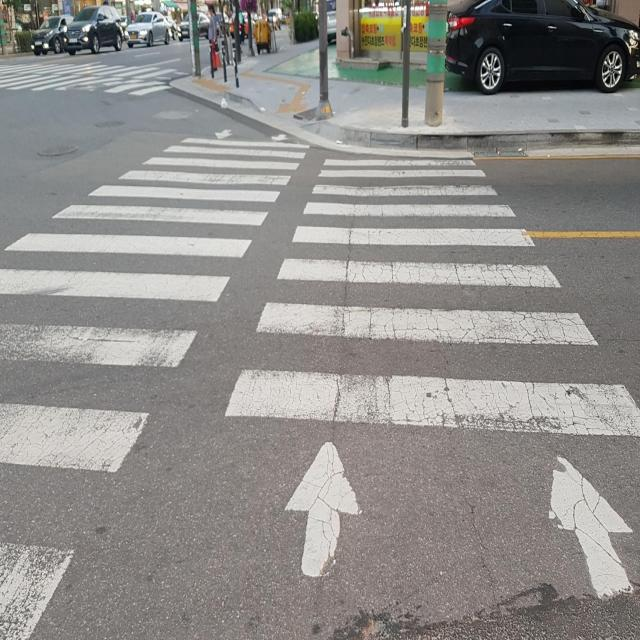횡단보도: (0, 125, 640, 639), (0, 61, 183, 98)
